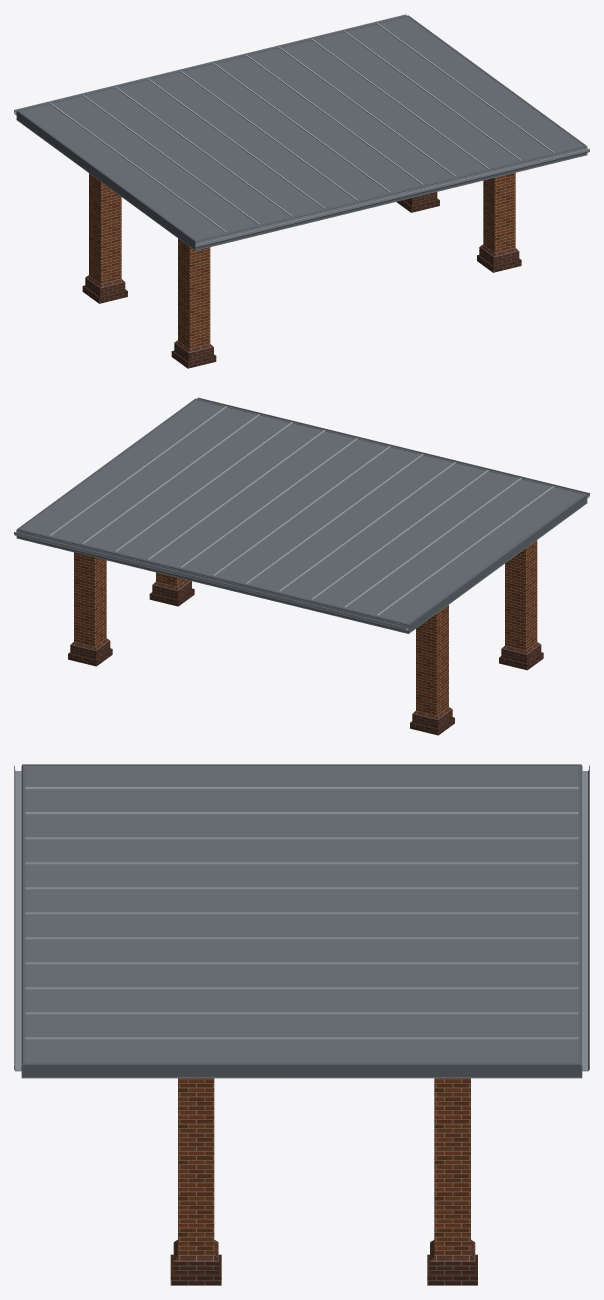
File: brick-carport.glb
3 views of the same model, one above another, from view 1: azimuth 30°, elevation 25°; view 2: azimuth 150°, elevation 25°; view 3: azimuth 270°, elevation 25° (orthographic). The views are drawn at different scales.
Visible parts, largest first — view 1: Brick-carportBody; view 2: Brick-carportBody; view 3: Brick-carportBody.
Part boxes in pixels (bbox=[...]): Brick-carportBody: bbox=[14, 14, 589, 368]; Brick-carportBody: bbox=[14, 397, 589, 735]; Brick-carportBody: bbox=[14, 764, 589, 1285].
Bounding box in the file's own units: 10.6 × 3.9 × 8.6.
Materials: 1 (1 with a texture image).
